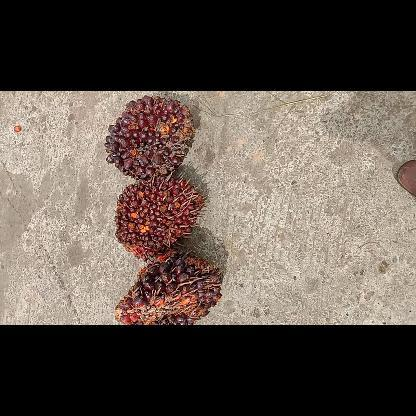Kurang masak: (104, 94, 194, 180), (115, 180, 206, 260)
TBS masak: (114, 252, 222, 324)
